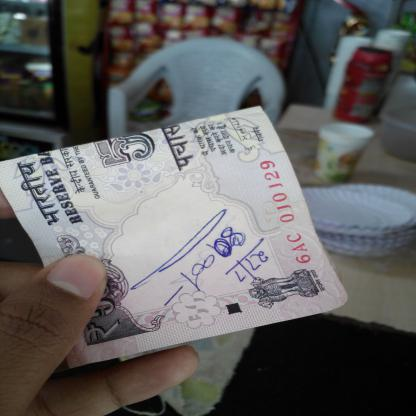Old50Front: (0, 106, 351, 372)
